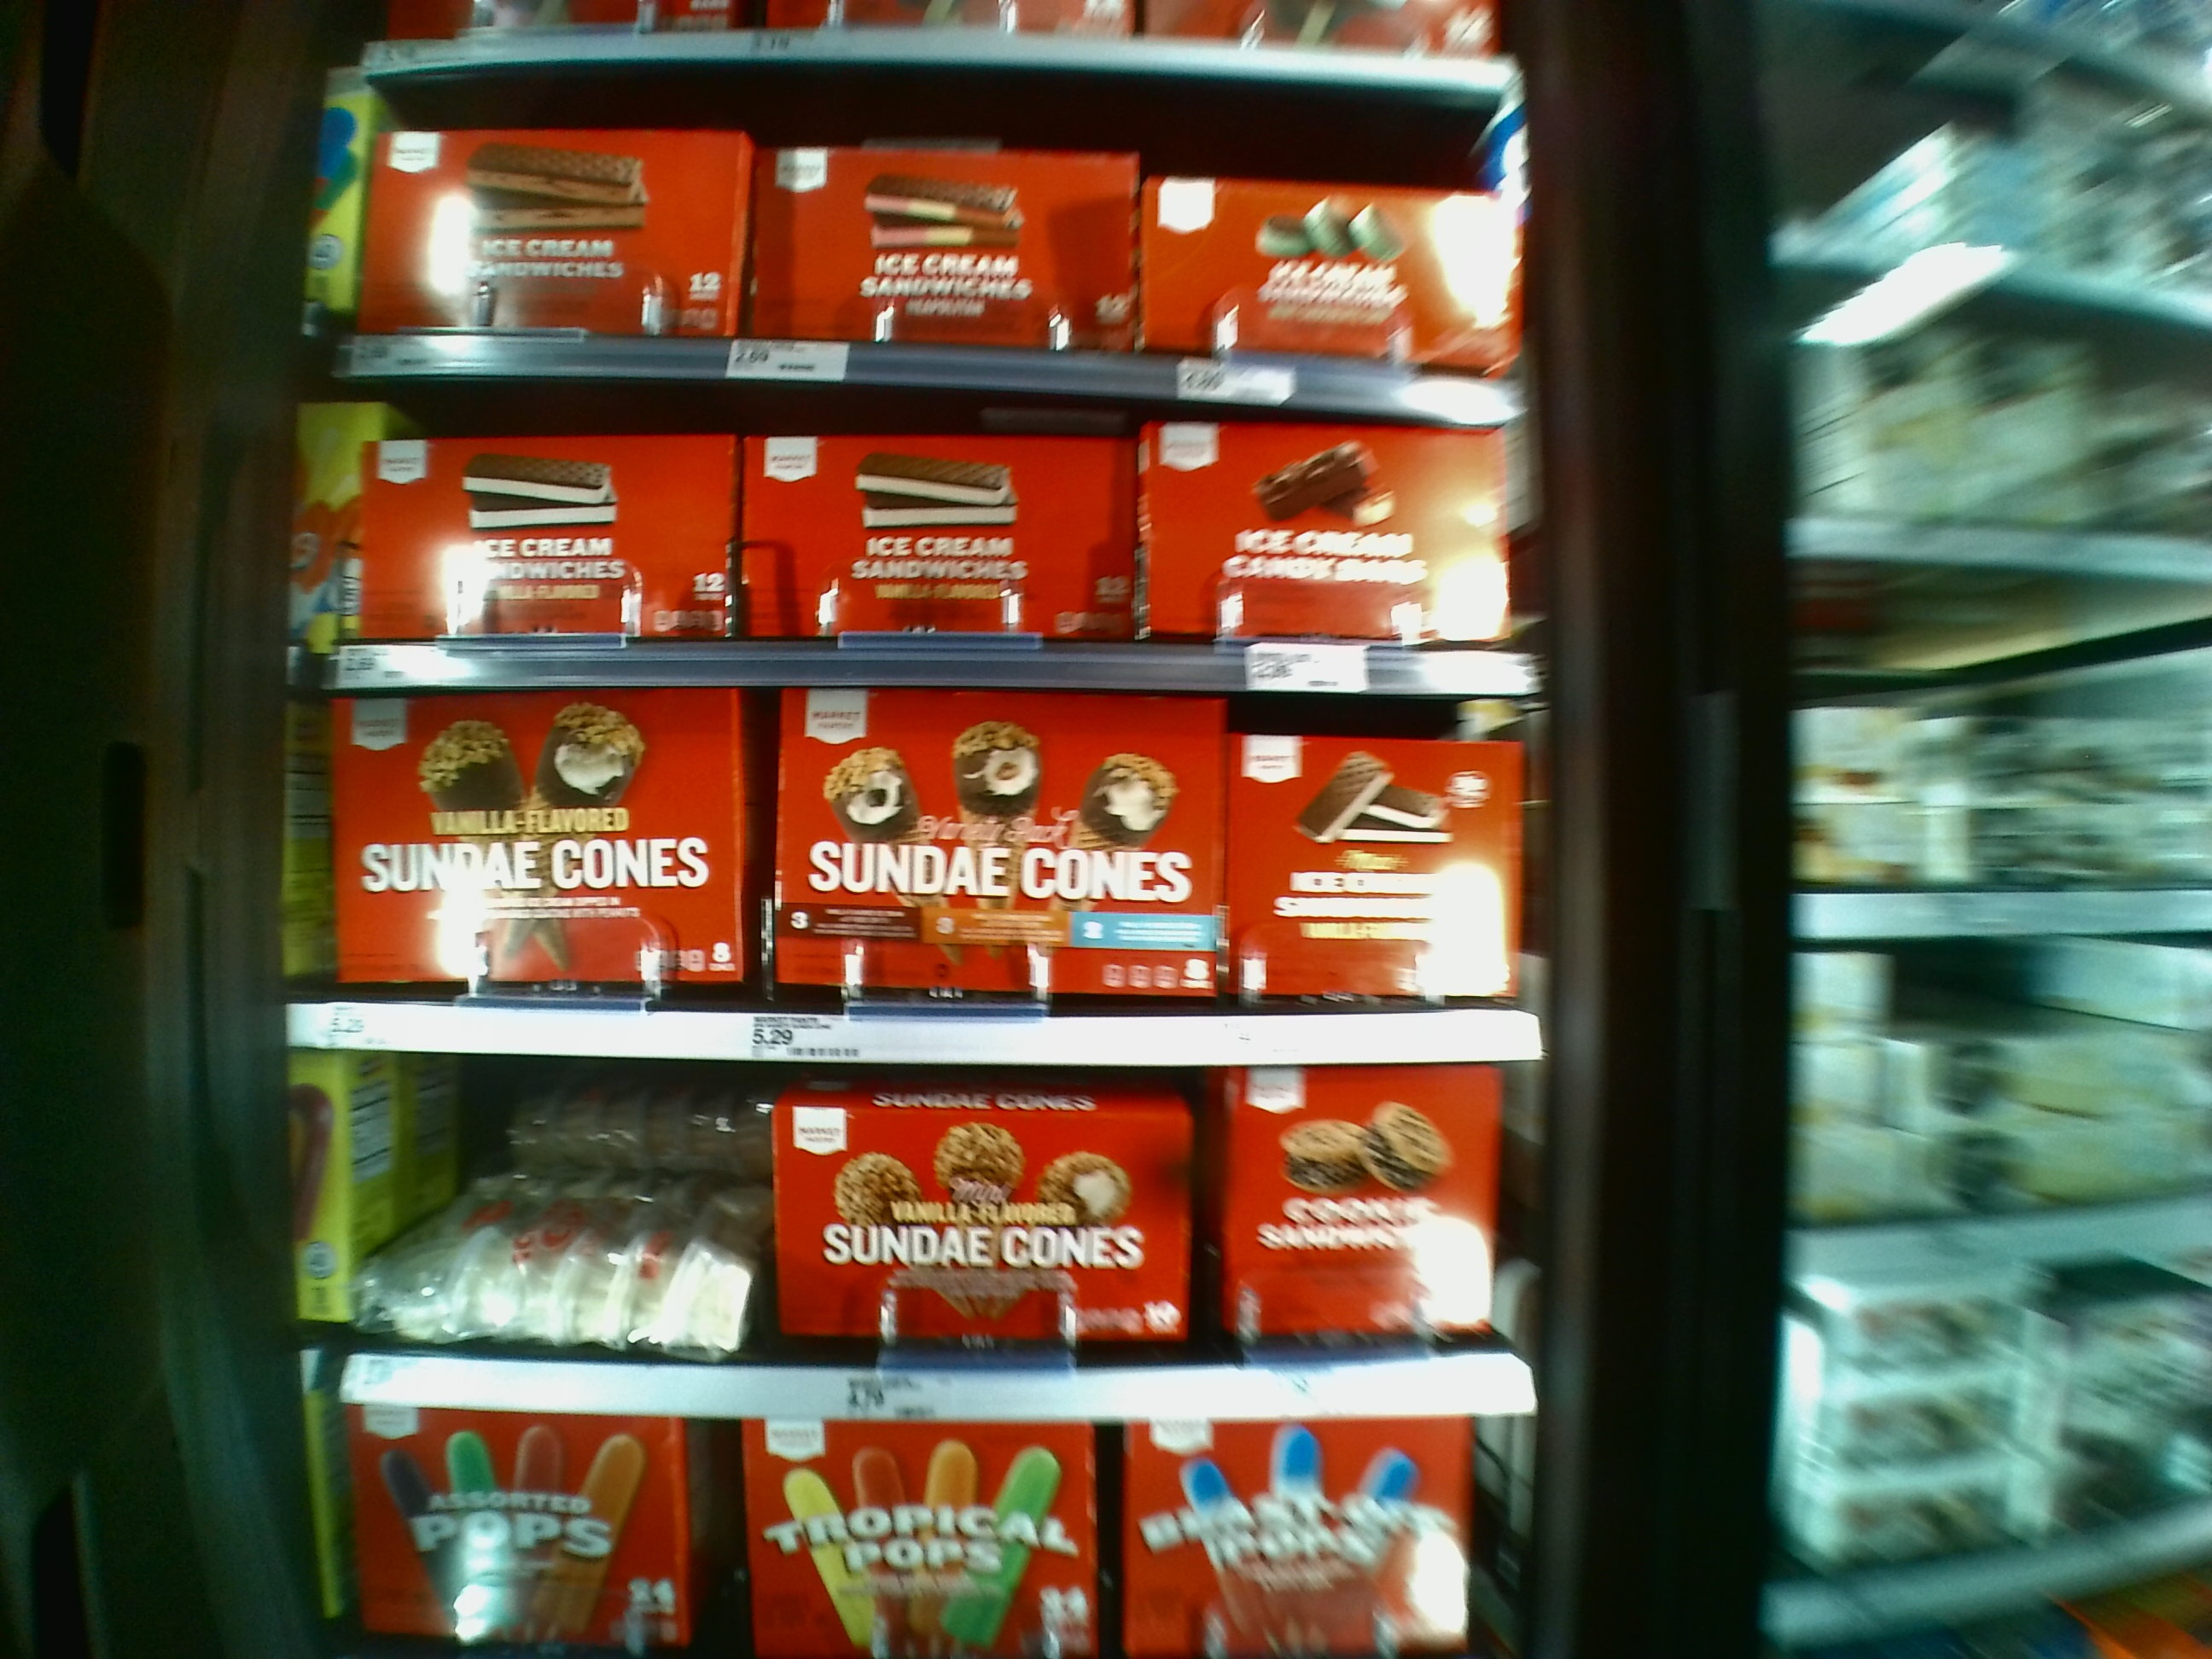shelf: (340, 1058, 1512, 1427), (317, 702, 1531, 1056), (348, 59, 1484, 406), (336, 390, 1491, 702)
